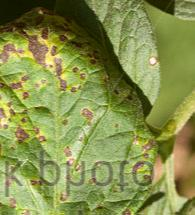Tomato Septoria leaf spot: (0, 2, 177, 215)
